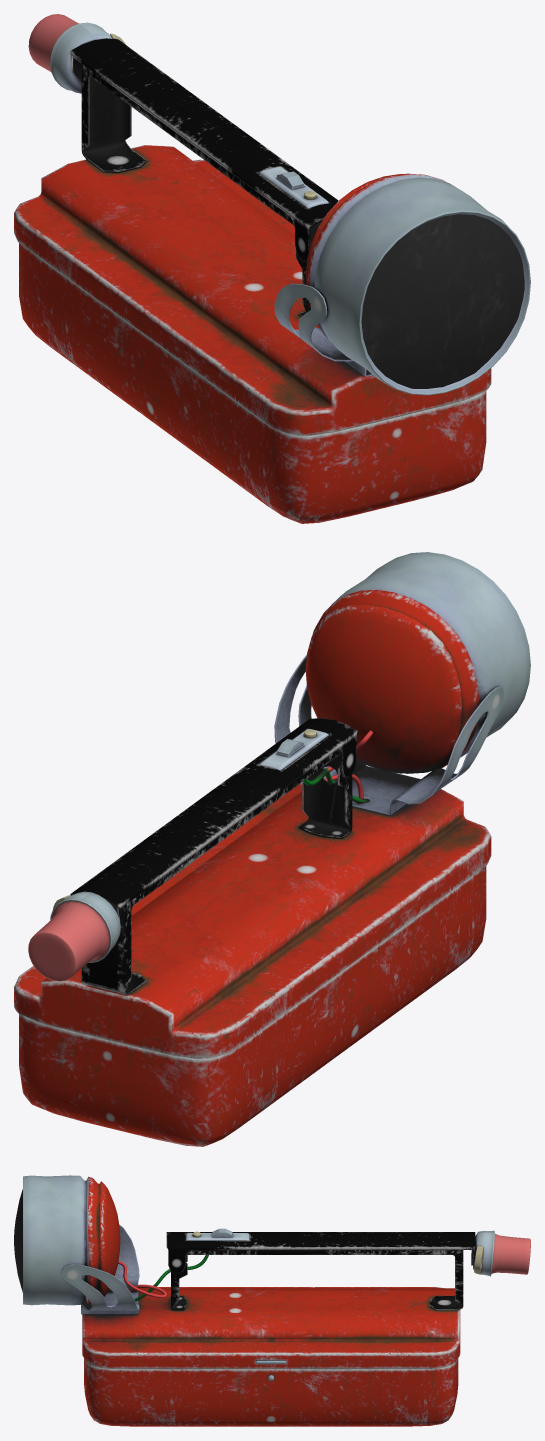
The model's file is vintage_flashlight.gltf.
3 views of the same model, one above another, from view 1: azimuth 30°, elevation 25°; view 2: azimuth 150°, elevation 25°; view 3: azimuth 270°, elevation 25° (orthographic). The views are drawn at different scales.
Parts seen in each view (by area): view 1: vintage_flashlight; view 2: vintage_flashlight; view 3: vintage_flashlight.
Boxes of the visible parts, bbox=[...] form: vintage_flashlight: bbox=[14, 14, 530, 523]; vintage_flashlight: bbox=[14, 552, 530, 1146]; vintage_flashlight: bbox=[14, 1175, 530, 1426].
Bounding box in the file's own units: 0.0959 × 0.1443 × 0.3055.
Materials: 2 (2 with a texture image).
